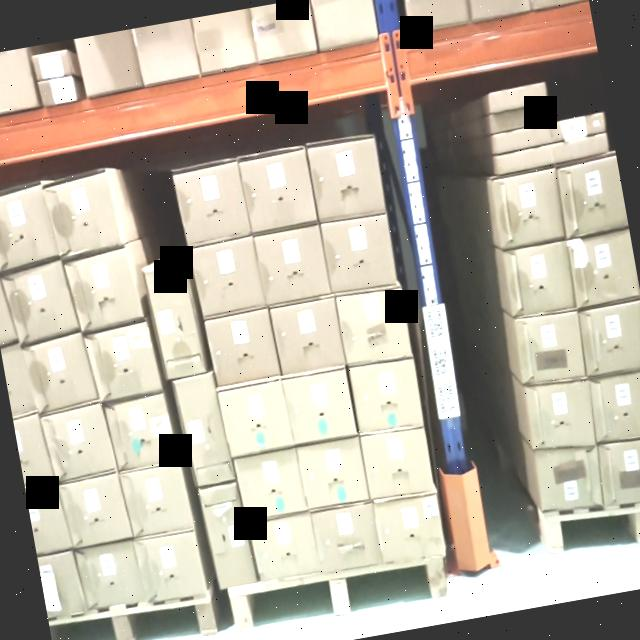box: (174, 374, 233, 485), (148, 260, 202, 378), (240, 150, 318, 231), (174, 164, 250, 244), (307, 140, 383, 220), (46, 170, 116, 254), (555, 156, 628, 236), (256, 227, 330, 304), (322, 215, 396, 292), (349, 357, 422, 434), (204, 311, 278, 385), (336, 287, 410, 361), (68, 254, 142, 328), (220, 380, 292, 456), (192, 238, 262, 316), (271, 300, 344, 374), (284, 368, 356, 443), (298, 436, 370, 510), (504, 242, 576, 316), (105, 394, 177, 468), (10, 261, 74, 343), (90, 323, 158, 400), (568, 230, 638, 304), (46, 402, 112, 480), (494, 171, 564, 244), (135, 531, 205, 604), (517, 311, 585, 385), (204, 483, 252, 587), (374, 492, 444, 562), (60, 476, 130, 546), (235, 449, 305, 518), (311, 504, 382, 572), (250, 513, 318, 583), (362, 429, 432, 496), (524, 382, 596, 447), (577, 302, 640, 376), (26, 340, 94, 408), (124, 464, 190, 534), (536, 444, 601, 514), (0, 190, 57, 264), (79, 541, 141, 607), (590, 371, 640, 442), (24, 482, 66, 554), (598, 436, 640, 506), (37, 551, 81, 616), (12, 413, 48, 484), (1, 346, 32, 414), (488, 83, 546, 111), (490, 104, 548, 130), (552, 135, 608, 161), (498, 148, 554, 173), (494, 126, 552, 150), (550, 116, 606, 140), (0, 273, 9, 341)
